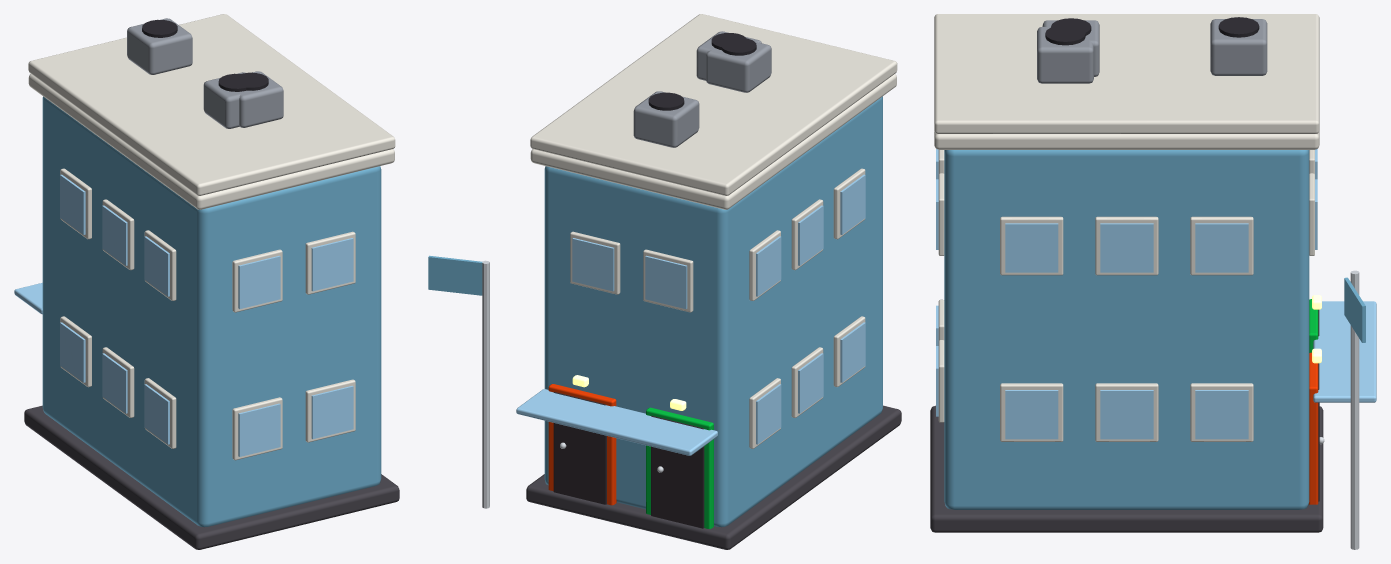
Rendered from building_management_office_t2.glb.
3 views of the same model, side by side, from view 1: azimuth 30°, elevation 25°; view 2: azimuth 150°, elevation 25°; view 3: azimuth 270°, elevation 25° (orthographic). The views are drawn at different scales.
Parts seen in each view (by area): view 1: Walls, Roof.Parapet, Plinth, Roof.Slab, AC.Box.002, WinB1.Pane, WinB0.Pane, WinB0.Pane.001, WinB1.Pane.001, AC.Box.001, AC.Box, WinL1.Pane (+18 smaller); view 2: Walls, Roof.Parapet, Plinth, Canopy, Roof.Slab, Entry.Leaf, Exit.Leaf, AC.Box.002, AC.Box, Flag.Pole, Win1.Pane.001, Win1.Pane (+17 smaller); view 3: Walls, Roof.Parapet, Plinth, Roof.Slab, Canopy, WinR0.Pane.001, WinR0.Pane.002, WinR1.Pane, WinR1.Pane.001, WinR1.Pane.002, WinR0.Pane, AC.Box.002 (+16 smaller).
Boxes of the visible parts, left/top/right/bottom form: Walls: left=42, top=96, right=381, bottom=527; Roof.Parapet: left=28, top=14, right=395, bottom=195; Plinth: left=24, top=405, right=399, bottom=549; Roof.Slab: left=28, top=74, right=394, bottom=209; AC.Box.002: left=127, top=18, right=192, bottom=74; WinB1.Pane: left=238, top=255, right=280, bottom=309; WinB0.Pane: left=238, top=403, right=280, bottom=456; WinB0.Pane.001: left=311, top=385, right=353, bottom=439; WinB1.Pane.001: left=311, top=238, right=353, bottom=291; AC.Box.001: left=239, top=71, right=283, bottom=127; AC.Box: left=203, top=72, right=251, bottom=128; WinL1.Pane: left=144, top=236, right=169, bottom=296; Walls: left=544, top=96, right=882, bottom=527; Roof.Parapet: left=530, top=14, right=897, bottom=195; Plinth: left=526, top=405, right=901, bottom=549; Canopy: left=516, top=389, right=717, bottom=455; Roof.Slab: left=530, top=74, right=896, bottom=209; Entry.Leaf: left=651, top=415, right=704, bottom=528; Exit.Leaf: left=553, top=392, right=606, bottom=504; AC.Box.002: left=633, top=91, right=699, bottom=147; AC.Box: left=706, top=42, right=771, bottom=92; Flag.Pole: left=482, top=260, right=489, bottom=508; Win1.Pane.001: left=572, top=238, right=614, bottom=291; Win1.Pane: left=645, top=255, right=687, bottom=308; Walls: left=944, top=150, right=1309, bottom=509; Roof.Parapet: left=934, top=14, right=1319, bottom=133; Plinth: left=930, top=405, right=1323, bottom=532; Roof.Slab: left=934, top=131, right=1319, bottom=149; Canopy: left=1313, top=301, right=1376, bottom=402; WinR0.Pane.001: left=1100, top=390, right=1153, bottom=439; WinR0.Pane.002: left=1195, top=390, right=1248, bottom=439; WinR1.Pane: left=1005, top=223, right=1058, bottom=272; WinR1.Pane.001: left=1100, top=223, right=1153, bottom=272; WinR1.Pane.002: left=1195, top=223, right=1248, bottom=272; WinR0.Pane: left=1005, top=390, right=1058, bottom=439; AC.Box.002: left=1210, top=19, right=1267, bottom=75.
Size of the model in its own units: 2.9 by 3.93 by 3.52.
